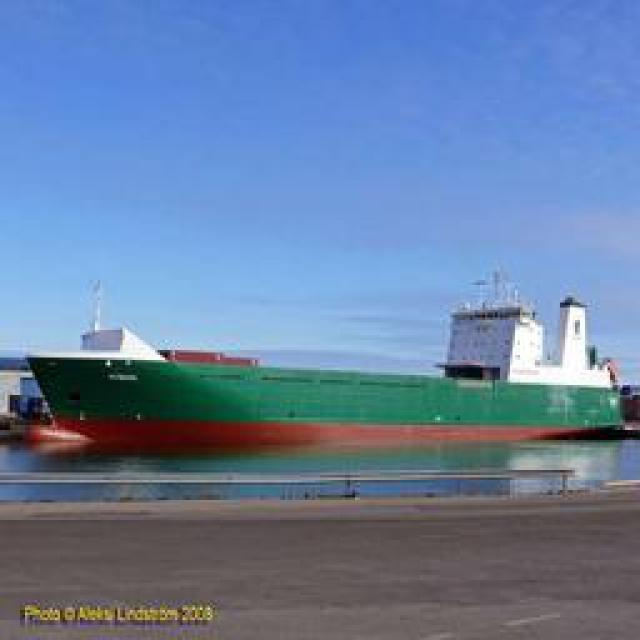Ship: (22, 293, 630, 478)
